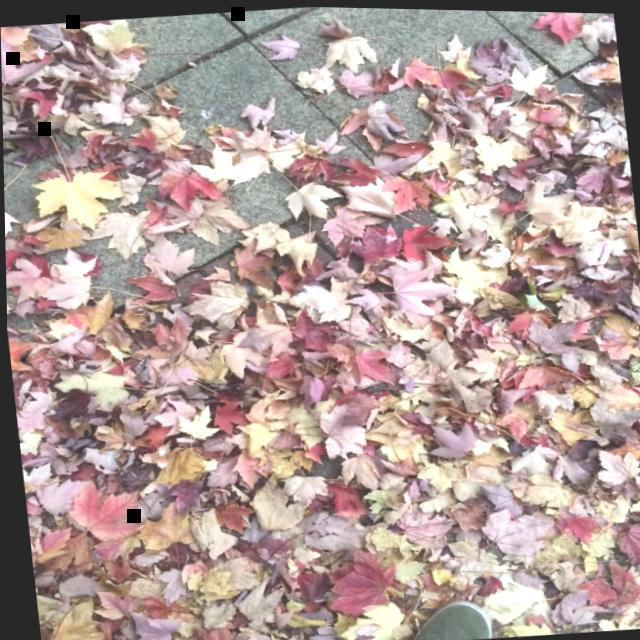Plastic film: (290, 278, 340, 316)
